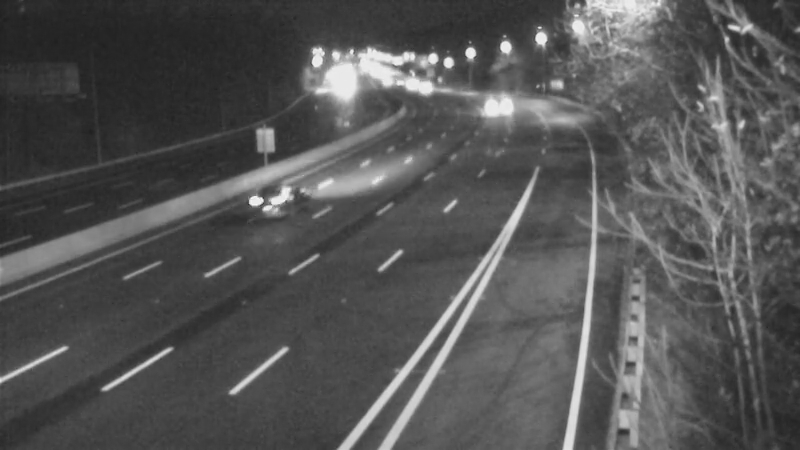vehicle: (239, 160, 319, 240), (401, 62, 451, 112), (474, 76, 524, 126)
